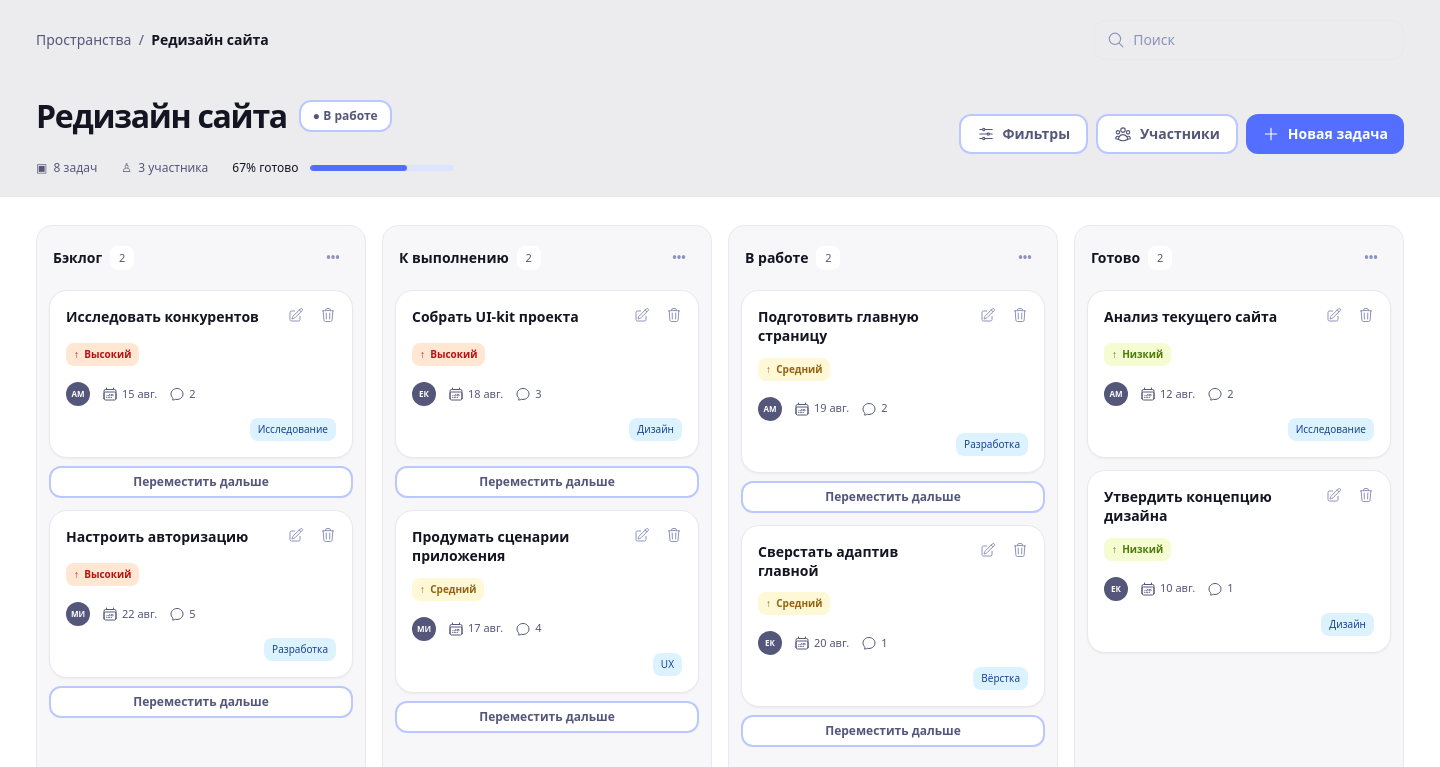
Test: KanbanBoard › удаляет выбранную категорию и сбрасывает фильтрацию
The image size is (1440, 767).
Click the button "Фильтры". click: x=1023, y=134
box: [958,114,1088,154]
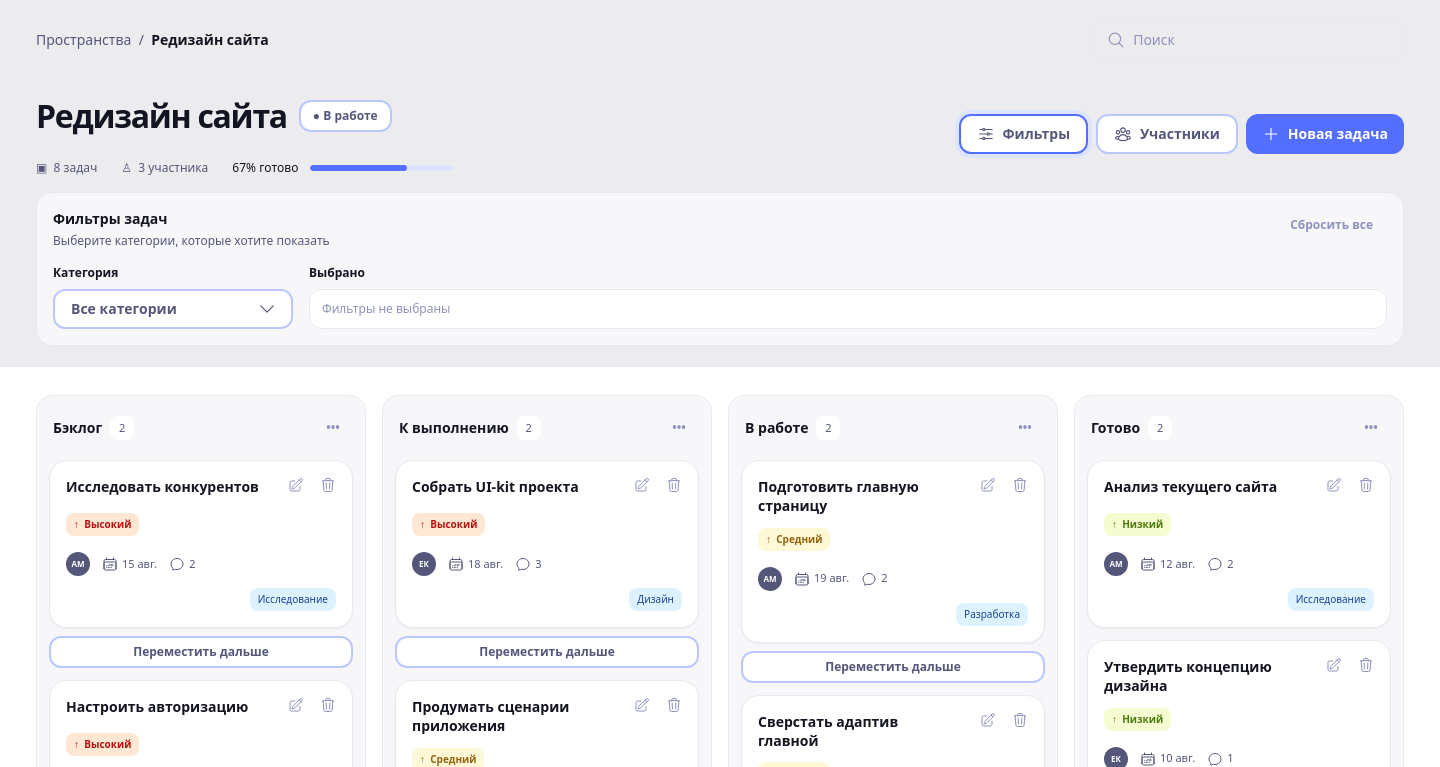
Select "Исследование" in the dropdown named "Добавить категорию". click: x=173, y=309
box: [53,289,293,329]
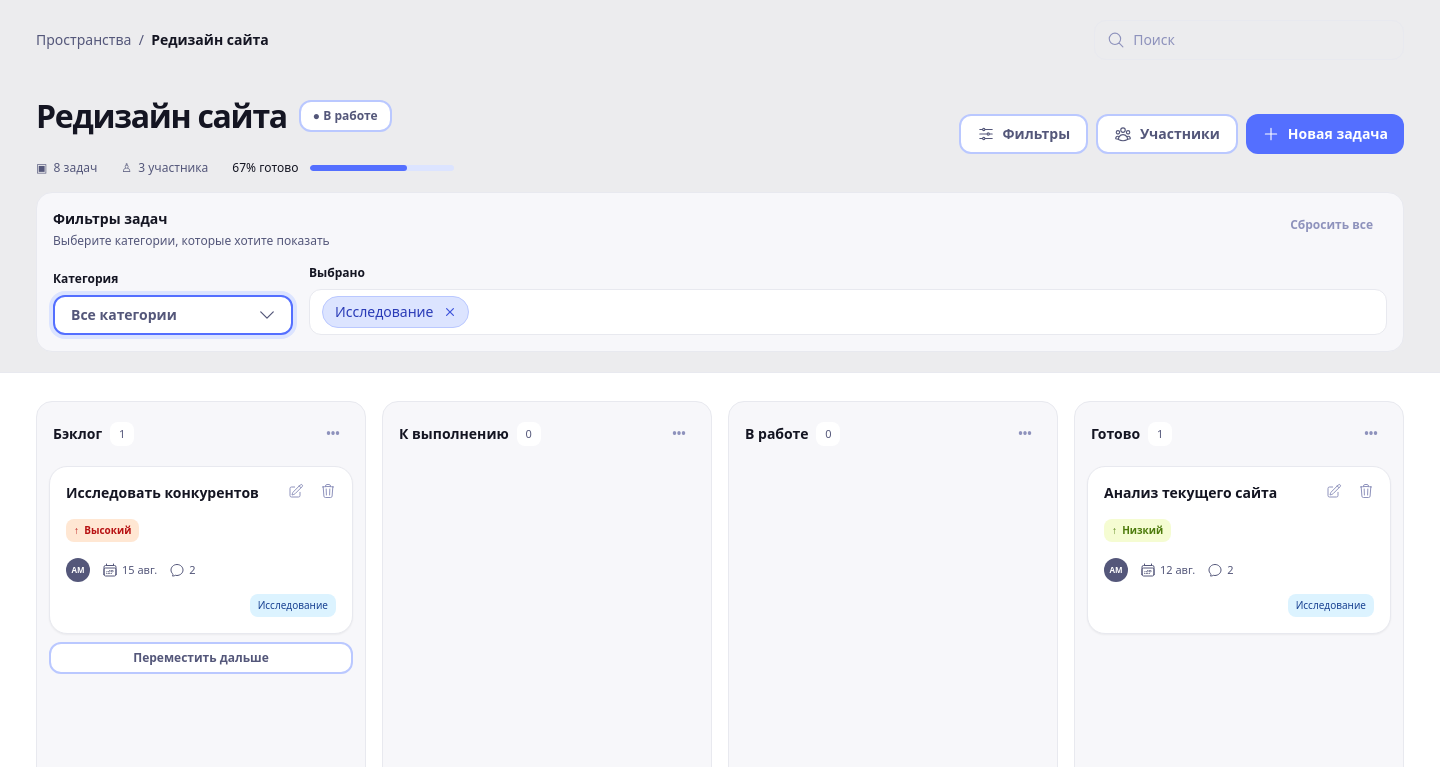
Expected: the link "Собрать UI-kit проекта" is gone
Click the button named "Удалить категорию Исследование". click: x=450, y=312
box: [440,302,460,322]
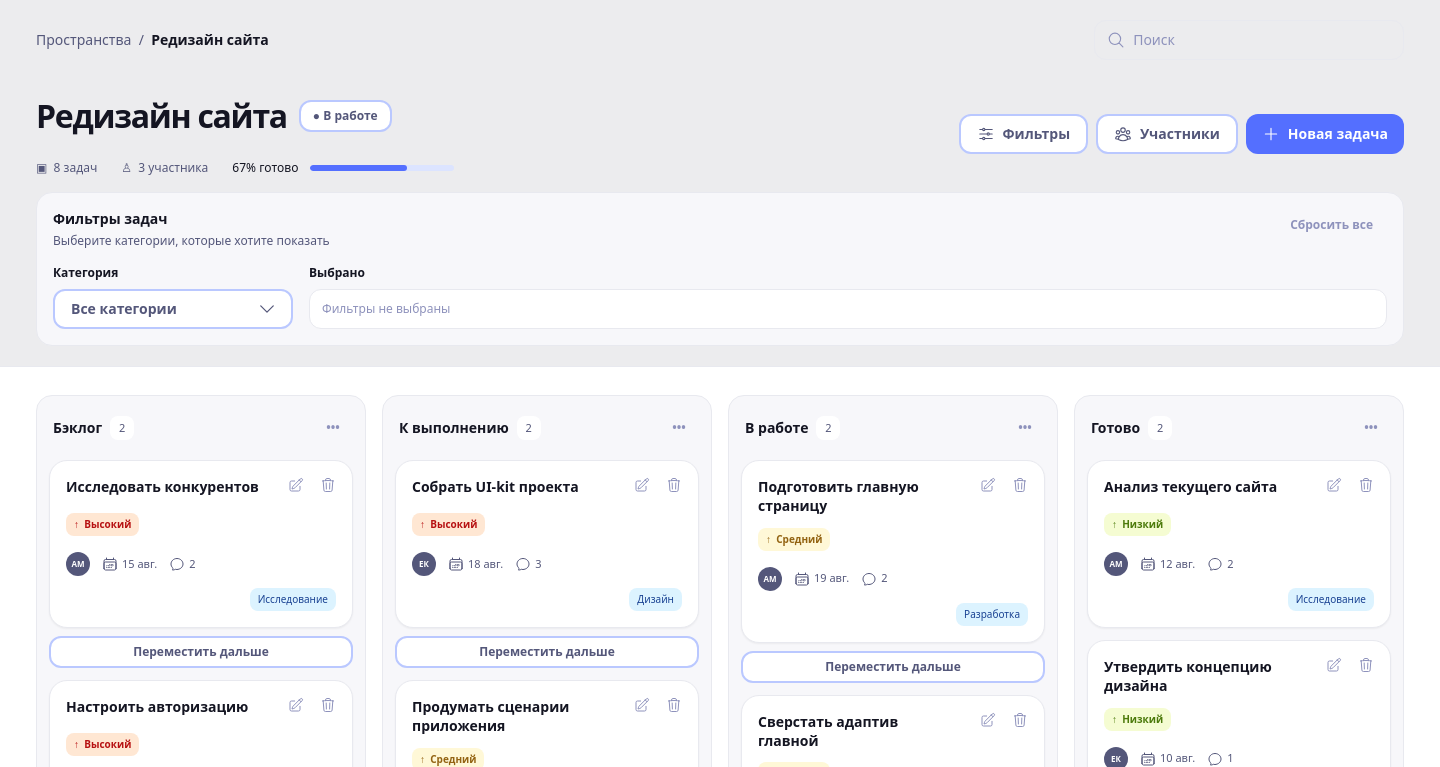
Expected: the text "Фильтры не выбраны" is shown, [322,301,450,317]
Expected: the link "Собрать UI-kit проекта" is shown, [412,477,579,496]
